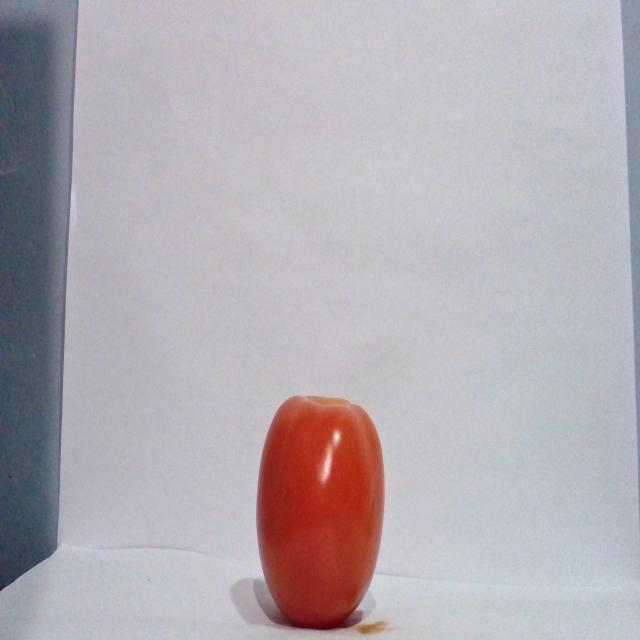Red: (254, 393, 386, 628)
